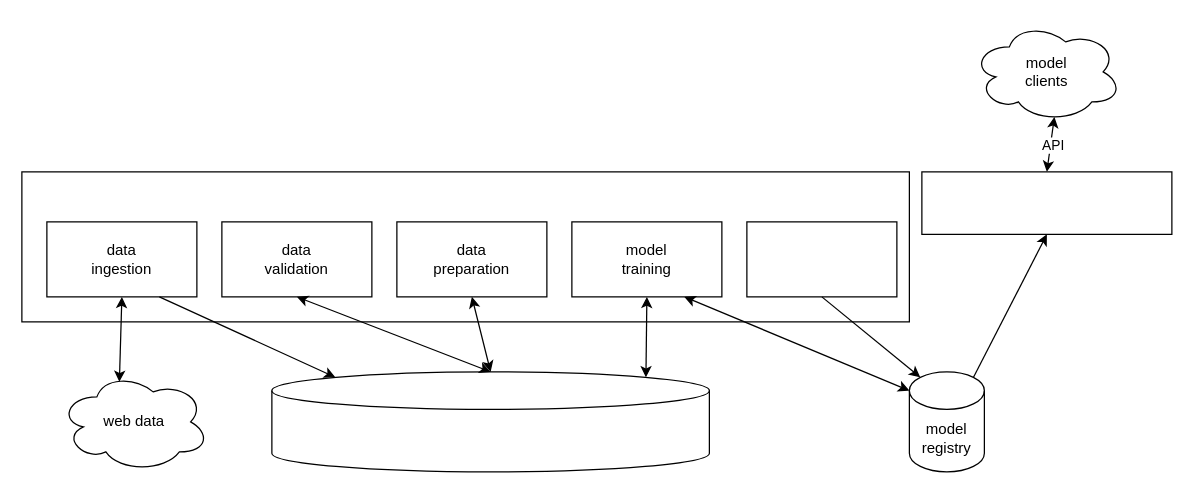
The diagram is 1194 pixels wide and 494 high, and some of its shapes have lost their labels. The shapes that lost their labels are listed below. From the top down, each one's box as (x1, y1, x2, y2) in pixels, then its label:
(921, 171, 1172, 234): production web app
(21, 171, 909, 322): orchestration
(746, 221, 897, 297): model validation
(271, 371, 709, 472): datalake
